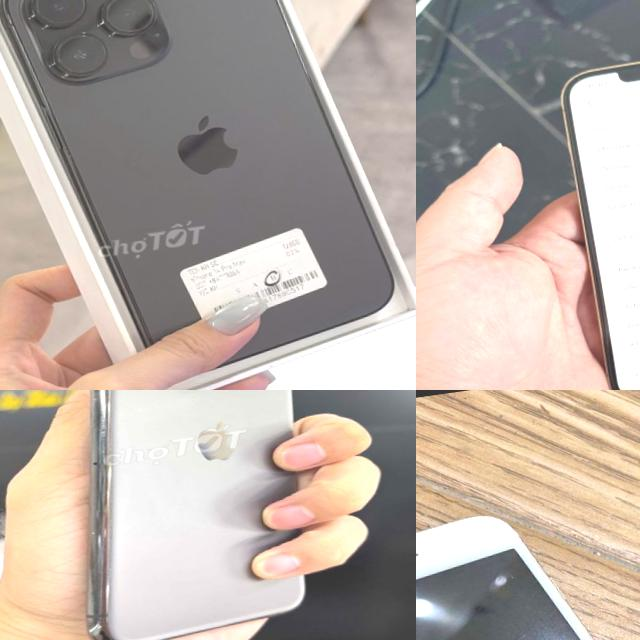scratch: (84, 405, 124, 514), (416, 525, 451, 566), (85, 524, 132, 549), (82, 554, 111, 580)
